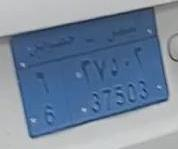city: (19, 66, 67, 136)
number: (59, 38, 167, 127)
text: (13, 11, 155, 69)
